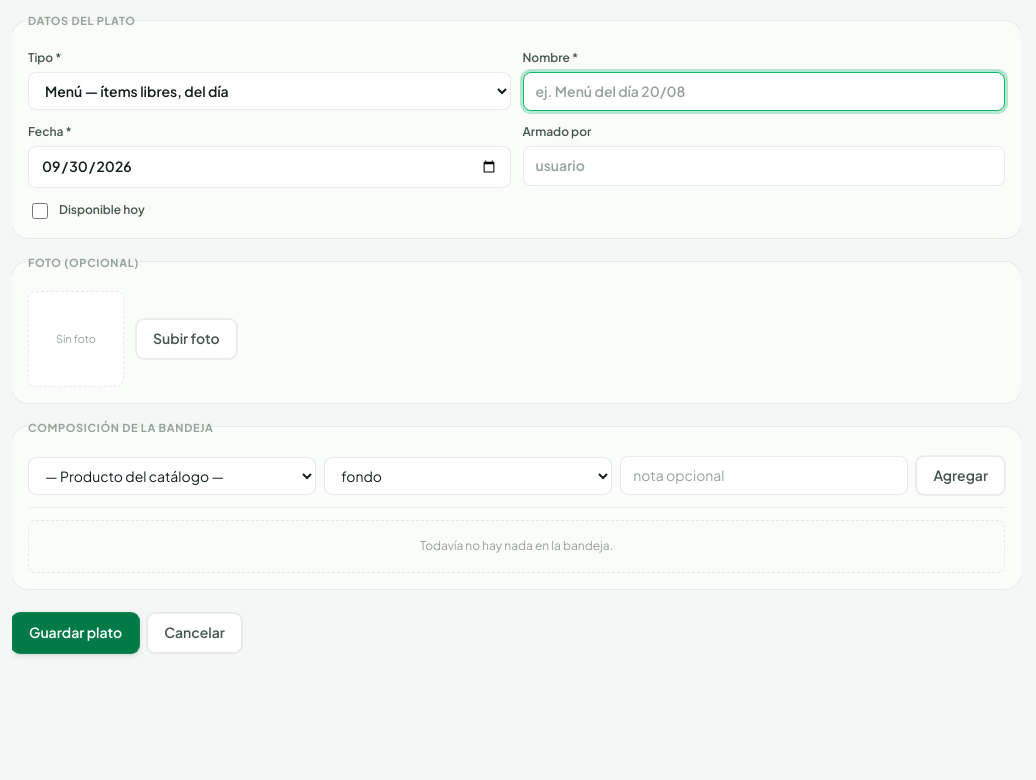
PlatoForm › no permite guardar sin items
Type "Menú" into the field labelled "Nombre *" at (764, 91), box [522,72,1005,111]
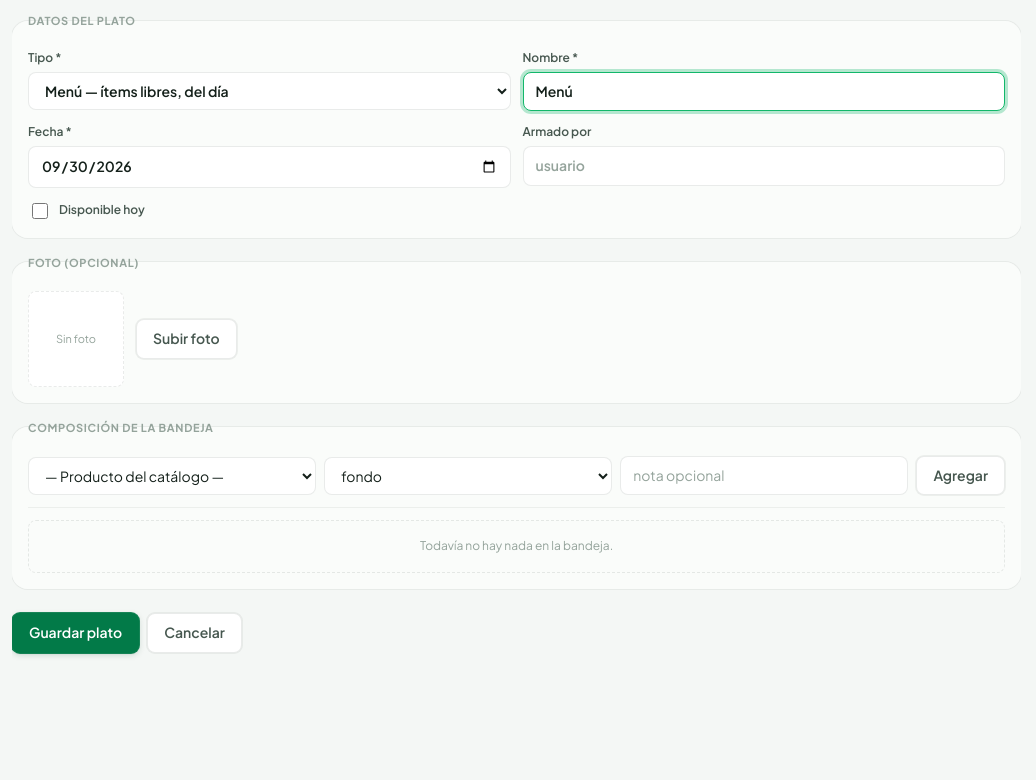
Click the button "Guardar plato" at (76, 633), box [12,613,139,653]
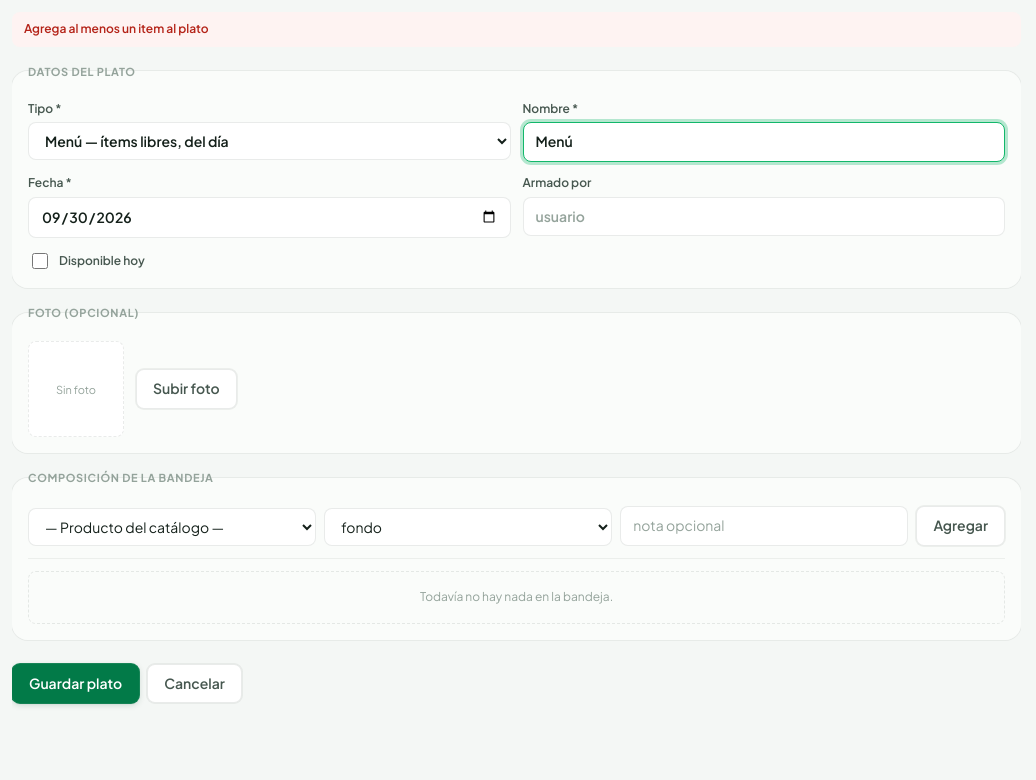
Result: the text "Agrega al menos un item al plato" is shown at [12,12,1021,47]
